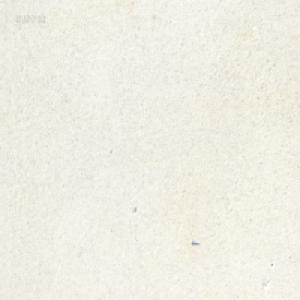Nail: (191, 240, 199, 245)
